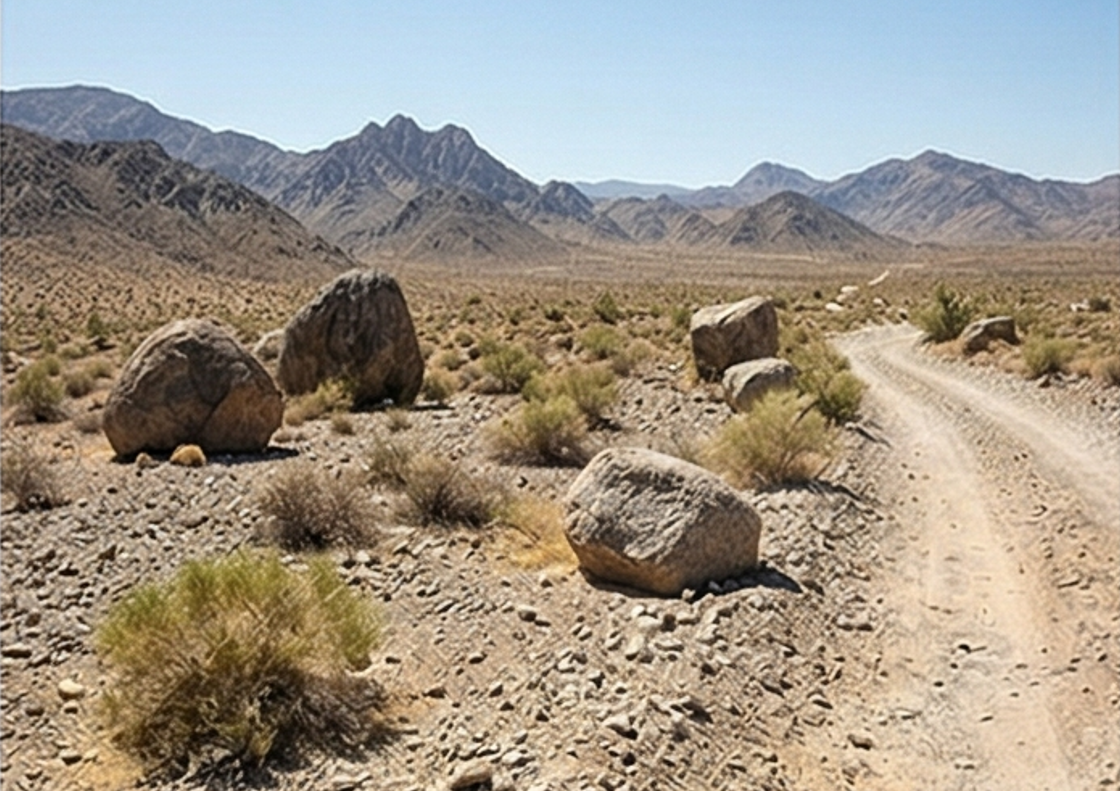rocks: (105, 270, 423, 455), (565, 448, 760, 594), (689, 296, 798, 411)
